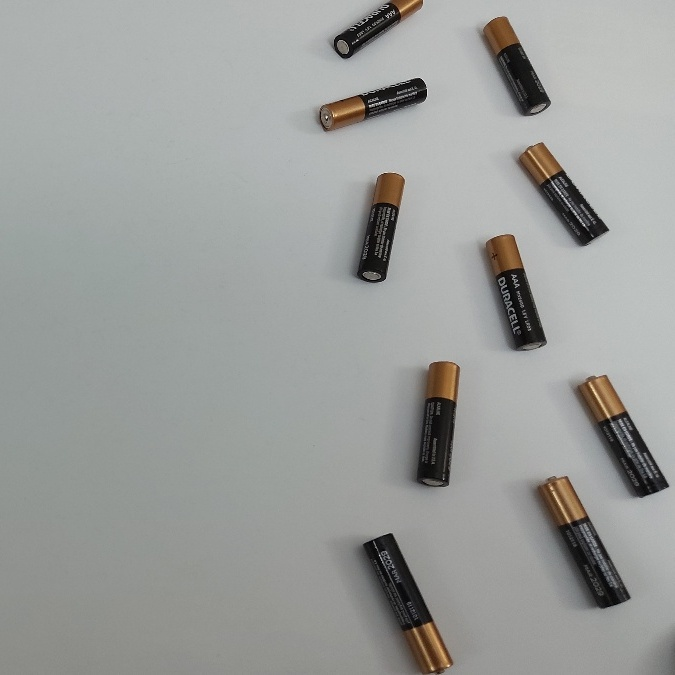battery: (576, 363, 666, 501), (538, 473, 628, 610), (518, 135, 606, 247), (401, 356, 465, 491), (309, 75, 433, 138), (485, 233, 548, 354), (483, 8, 551, 118), (352, 170, 406, 283), (331, 1, 426, 61)
